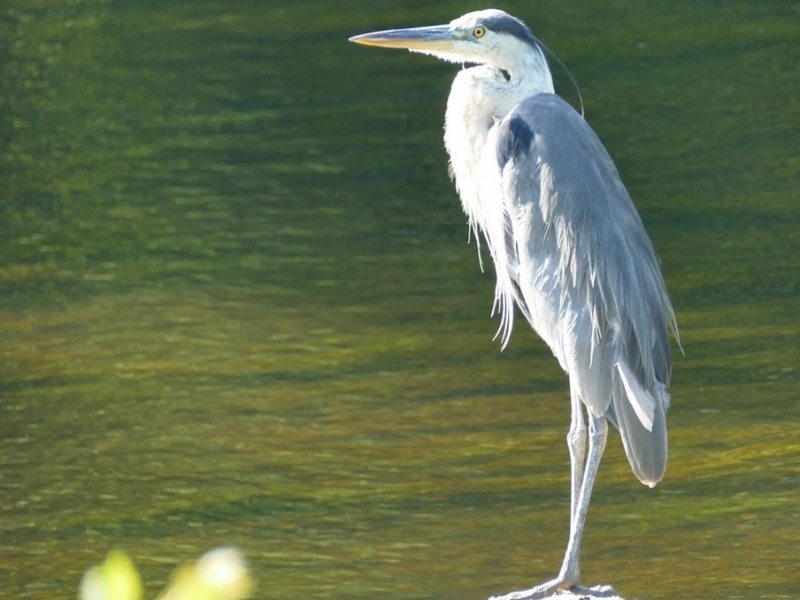heron: (341, 6, 688, 588)
